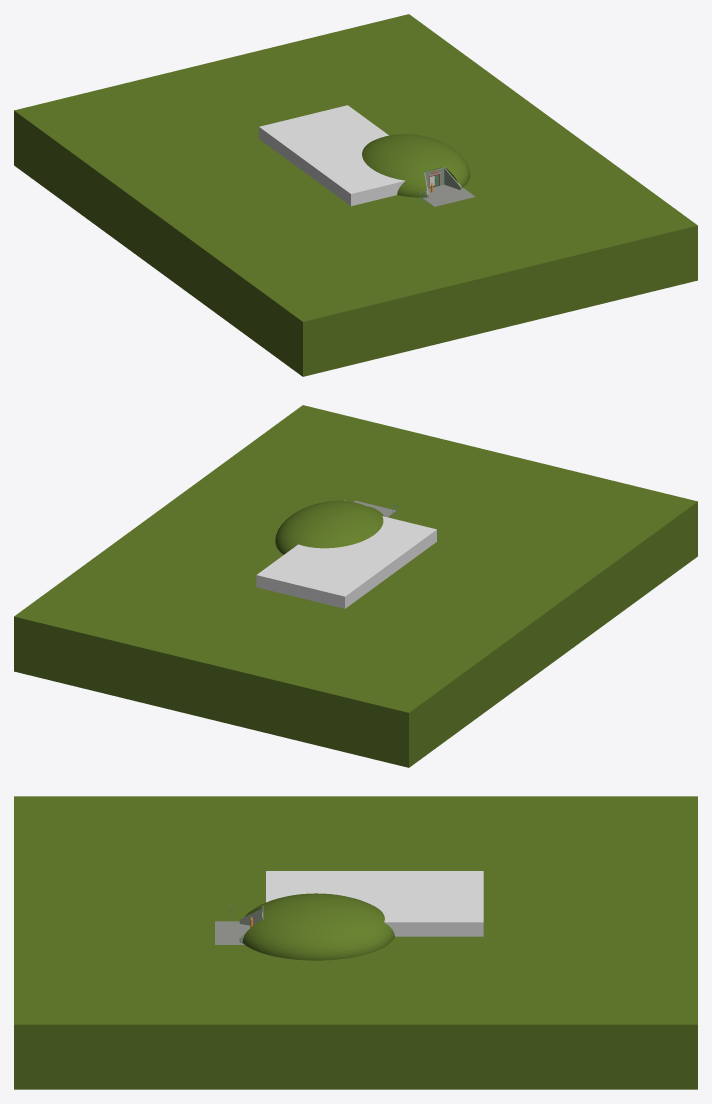
File: ark_two_v005.glb
3 renders of one model, top to bottom at view 1: azimuth 30°, elevation 25°; view 2: azimuth 150°, elevation 25°; view 3: azimuth 270°, elevation 25°, orthographic. The views are drawn at different scales.
Parts seen in each view (by area): view 1: Ground_Soil, Zone_Interior, Earth_Mound, Apron_Concrete; view 2: Ground_Soil, Zone_Interior, Earth_Mound; view 3: Ground_Soil, Zone_Interior, Earth_Mound, Apron_Concrete.
Part boxes in pixels (x1,y1,x2,y2): Ground_Soil: [14, 14, 697, 376]; Zone_Interior: [259, 105, 434, 206]; Earth_Mound: [362, 134, 470, 197]; Apron_Concrete: [422, 184, 475, 206]; Ground_Soil: [14, 405, 697, 767]; Zone_Interior: [256, 516, 436, 608]; Earth_Mound: [275, 500, 384, 554]; Ground_Soil: [14, 796, 697, 1089]; Zone_Interior: [266, 871, 483, 936]; Earth_Mound: [242, 893, 394, 960]; Apron_Concrete: [215, 921, 250, 944].
Bounding box in the file's own units: 75 × 14.4 × 95.
